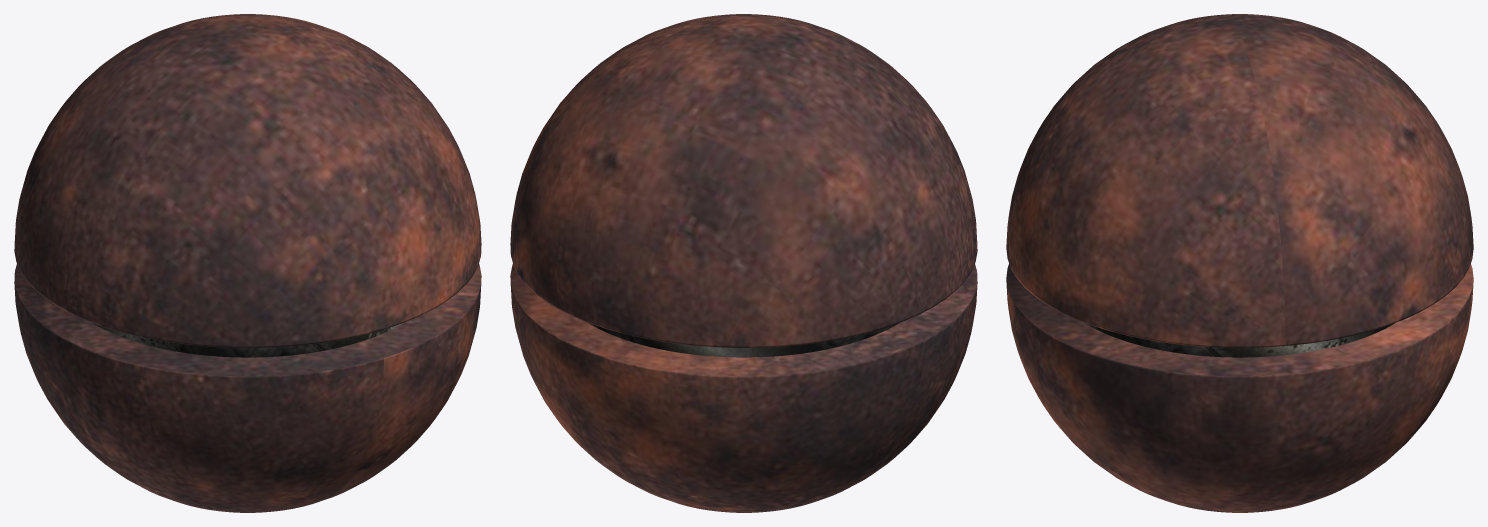
The model's file is droid_anim_000004.obj.
3 views of the same model, side by side, from view 1: azimuth 30°, elevation 25°; view 2: azimuth 150°, elevation 25°; view 3: azimuth 270°, elevation 25° (orthographic).
Visible parts, largest first — view 1: Sphere.004, Sphere.005, Cylinder.002; view 2: Sphere.004, Sphere.005, Cylinder.002; view 3: Sphere.004, Sphere.005, Cylinder.002.
Part boxes in pixels (x1,y1,x2,y2): Sphere.004: (14, 14, 481, 347); Sphere.005: (14, 264, 481, 512); Cylinder.002: (93, 323, 402, 357); Sphere.004: (510, 14, 977, 347); Sphere.005: (510, 264, 977, 512); Cylinder.002: (589, 323, 898, 357); Sphere.004: (1006, 14, 1473, 347); Sphere.005: (1006, 264, 1473, 512); Cylinder.002: (1084, 322, 1395, 357).
Bounding box in the file's own units: 2 × 2.15 × 2.
Materials: 3 (3 with a texture image).
